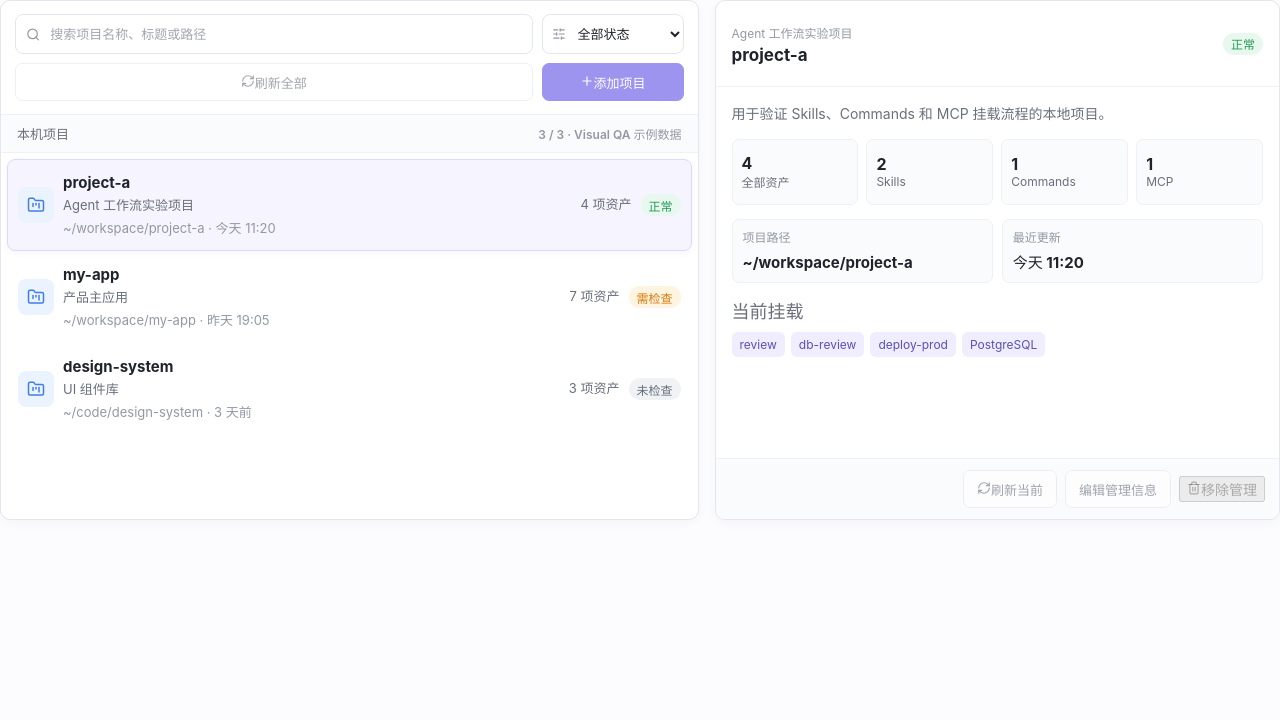
Test: remaining V1 static pages › filters projects and updates the selected inspector
Expected: the heading "project-a" is shown, [732, 44, 808, 64]
Click the option "my-app". click: click(36, 297)
box: [7, 251, 692, 343]
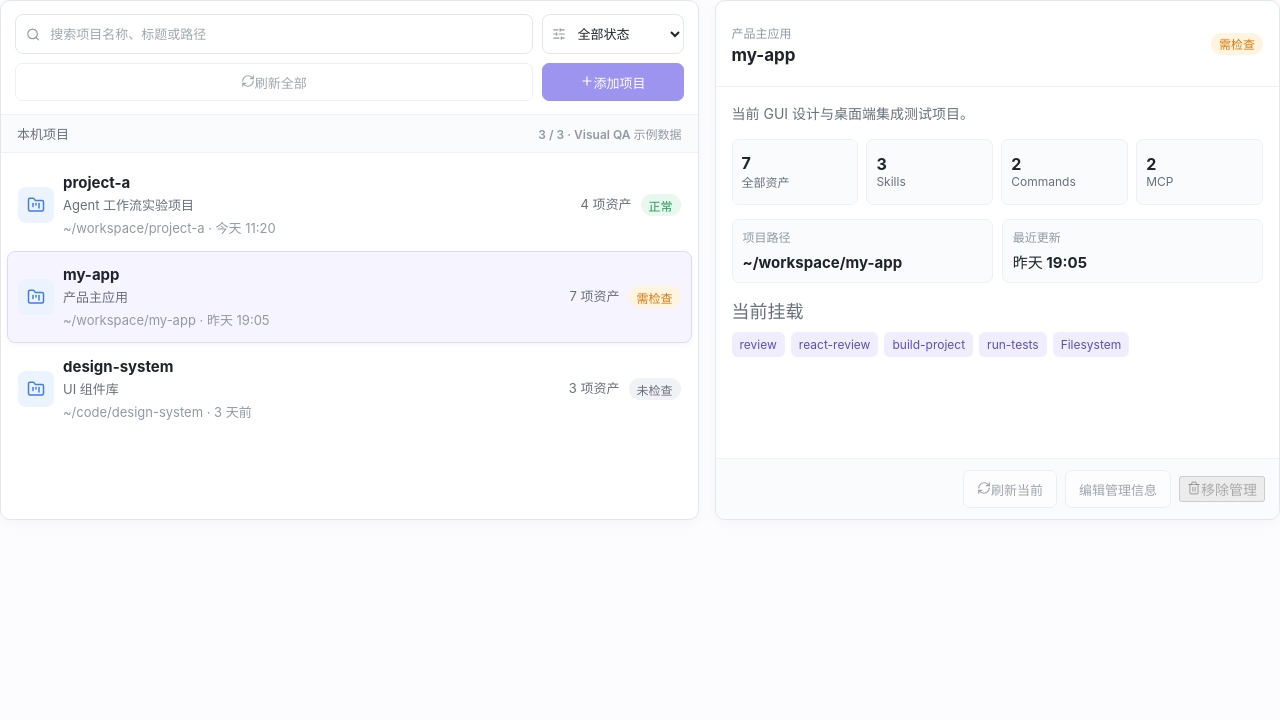
Expected: the heading "my-app" is shown, [732, 44, 796, 64]
Expected: the 1st text "产品主应用" is shown, [732, 26, 792, 40]
Type "design" into the search field labelled "搜索项目". click: (285, 34)
box: [48, 15, 522, 53]
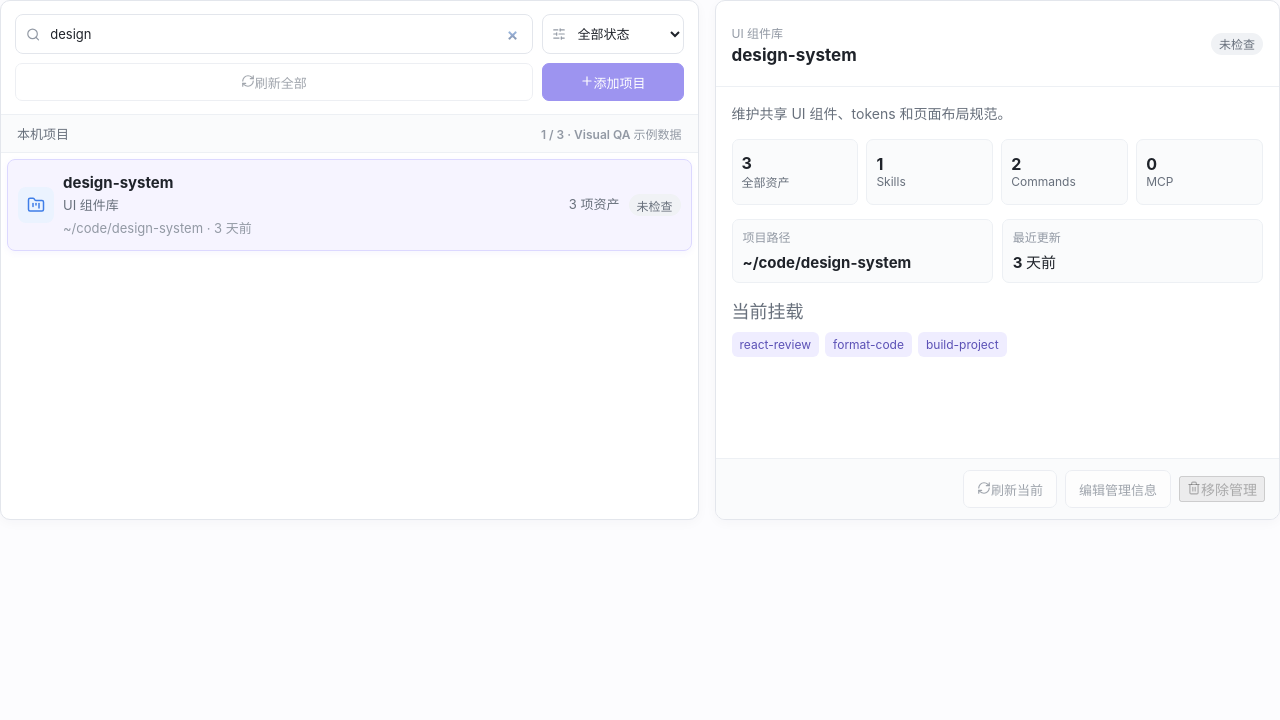
Expected: the option "design-system" is shown, [7, 159, 692, 251]
Expected: the option "project-a" is gone
Clear the search field named "搜索项目". click: (285, 34)
box: [48, 15, 522, 53]
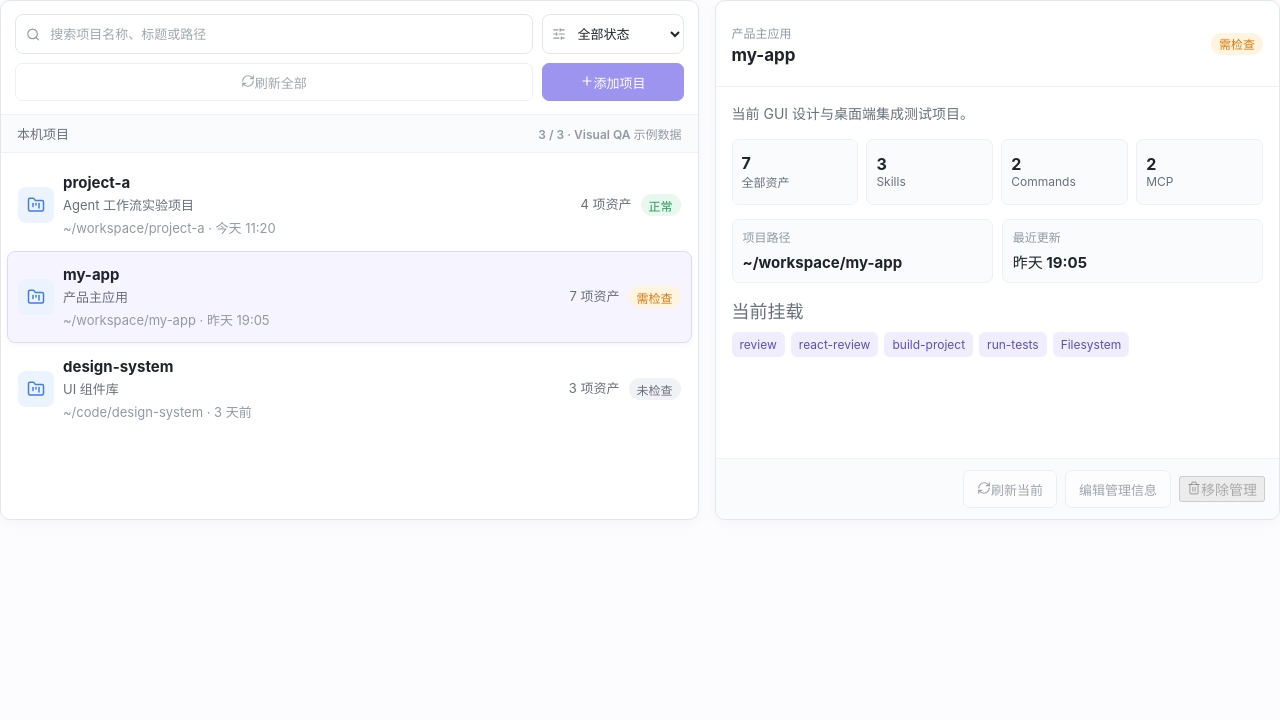
Select "正常" in the dropdown named "项目状态筛选". click: (628, 34)
box: [574, 15, 682, 53]
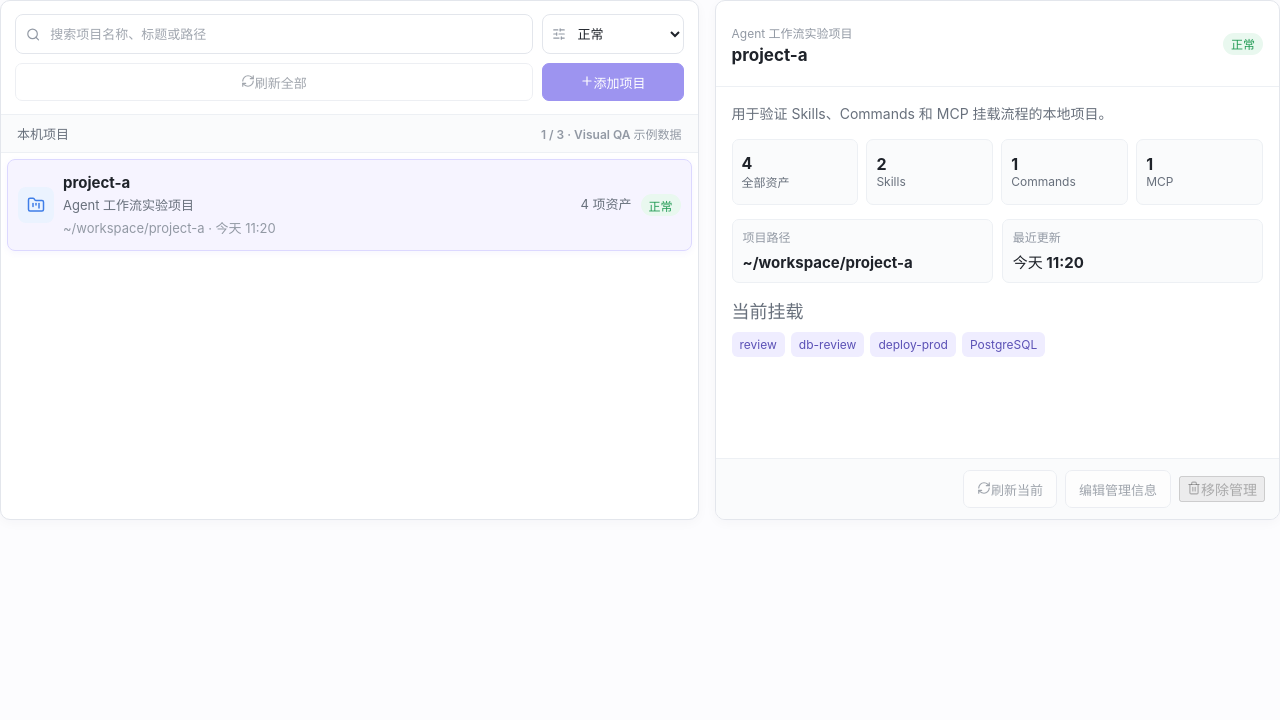
Expected: the option "project-a" is shown, [7, 159, 692, 251]
Expected: the option "my-app" is gone
